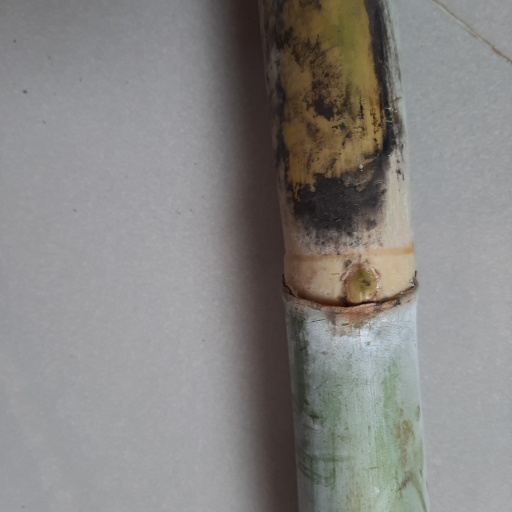Bud: (338, 263, 381, 305)
